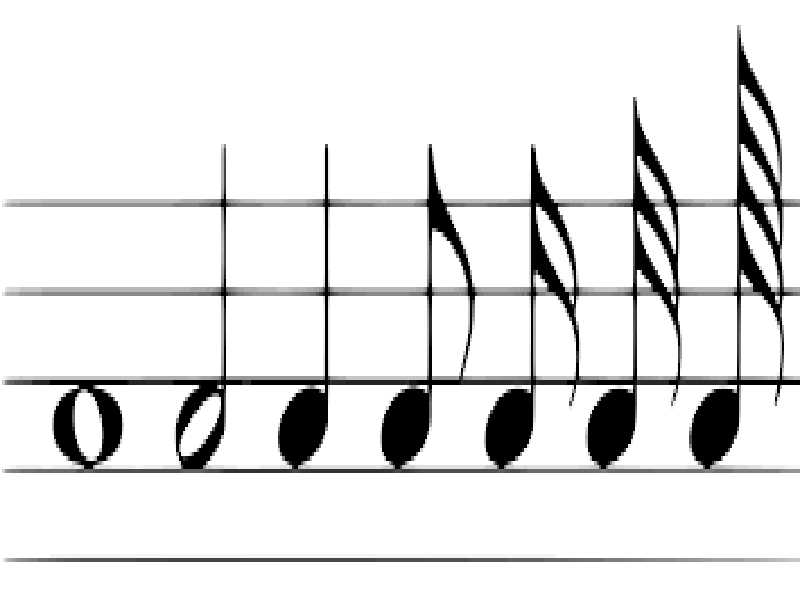B: (175, 140, 239, 472)
C: (381, 143, 477, 469)
N: (275, 137, 343, 470)
R: (49, 379, 124, 473)
SC: (485, 144, 584, 471)
